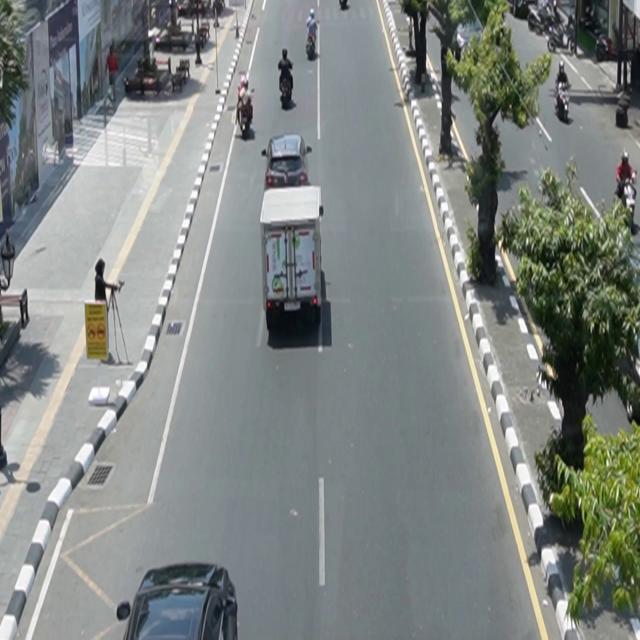car: (117, 563, 239, 640), (262, 134, 313, 189)
truck: (260, 186, 325, 331)
